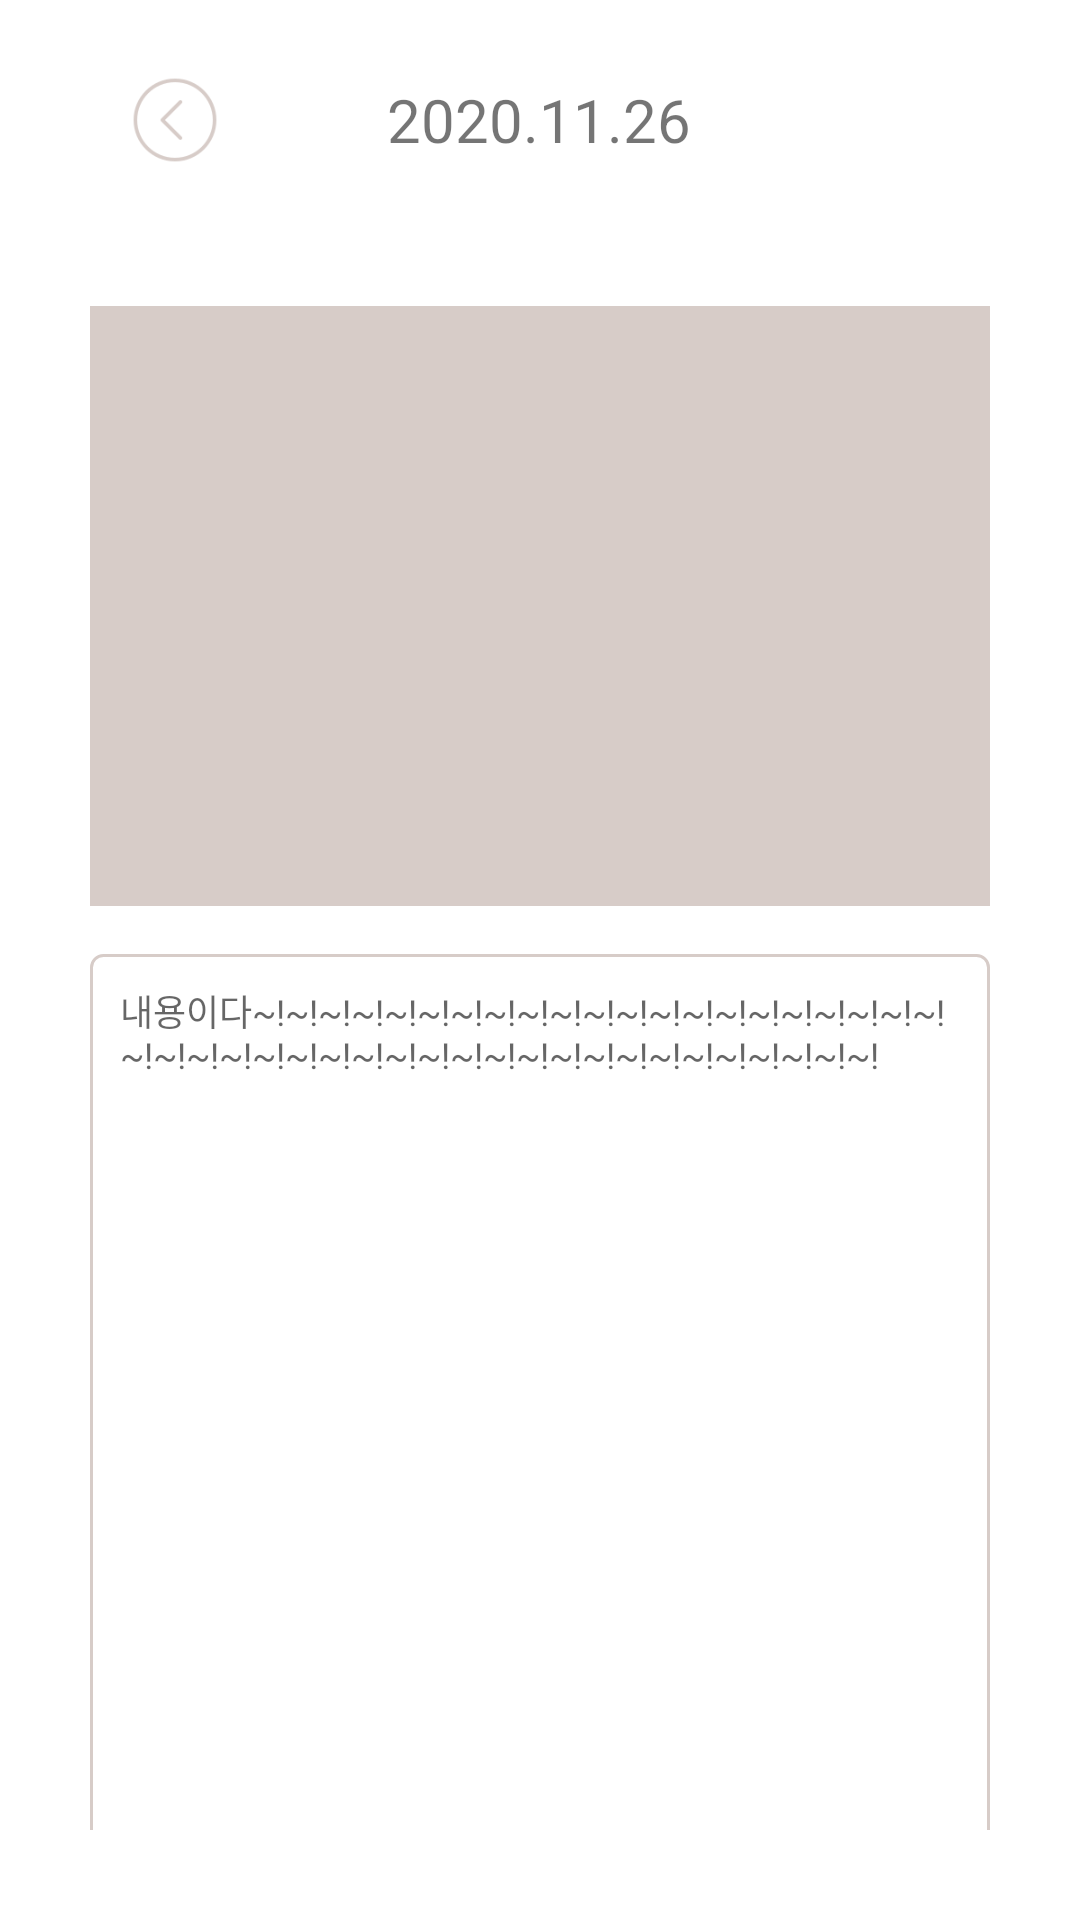

Named icons in this screenshot (1080px×1920px) and their centers, (x,y):
back: (175,120)
